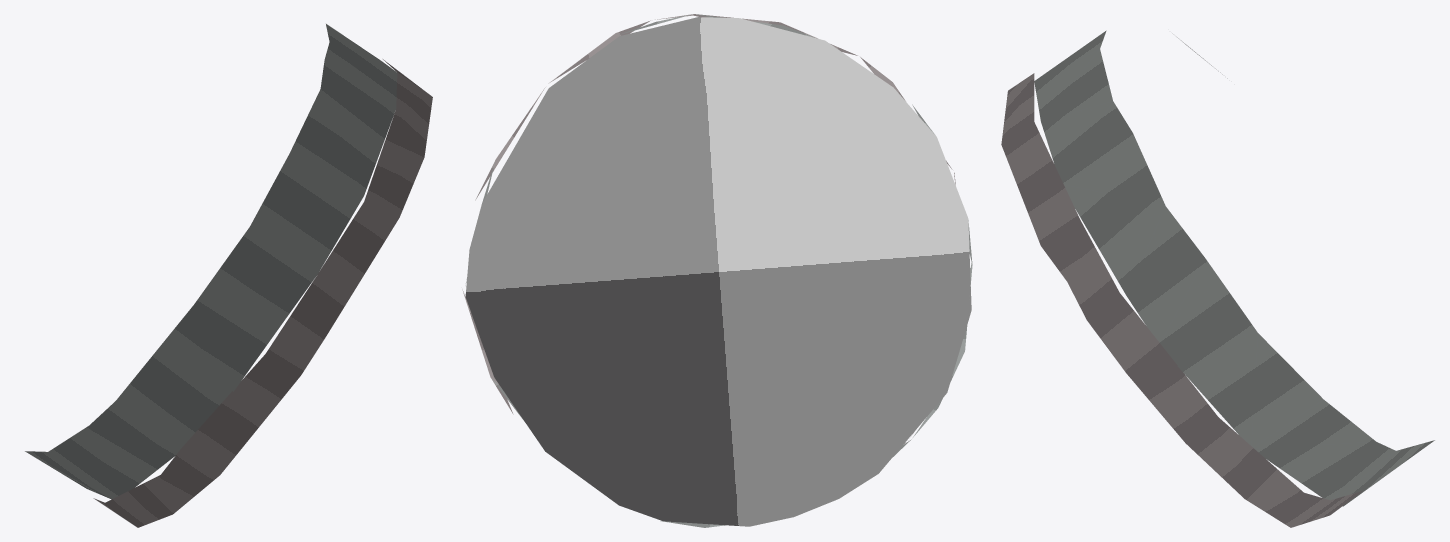
Rendered from tile_LOD3_r0_c2.glb.
3 views of the same model, side by side, from view 1: azimuth 30°, elevation 25°; view 2: azimuth 150°, elevation 25°; view 3: azimuth 270°, elevation 25° (orthographic). The views are drawn at different scales.
Size of the model in its own units: 40.75 by 41.5 by 33.
3 materials, 3 textured.
